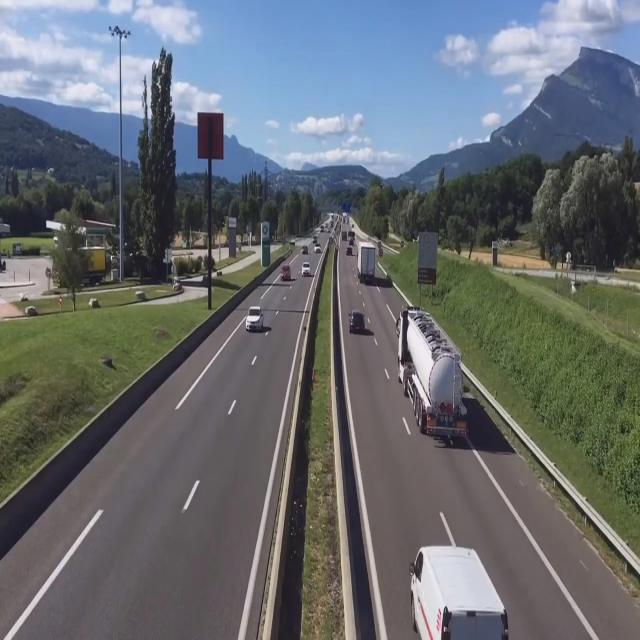bus: (408, 543, 510, 639)
car: (246, 307, 266, 334), (347, 310, 367, 332)
truck: (396, 305, 470, 445), (356, 239, 378, 288)
